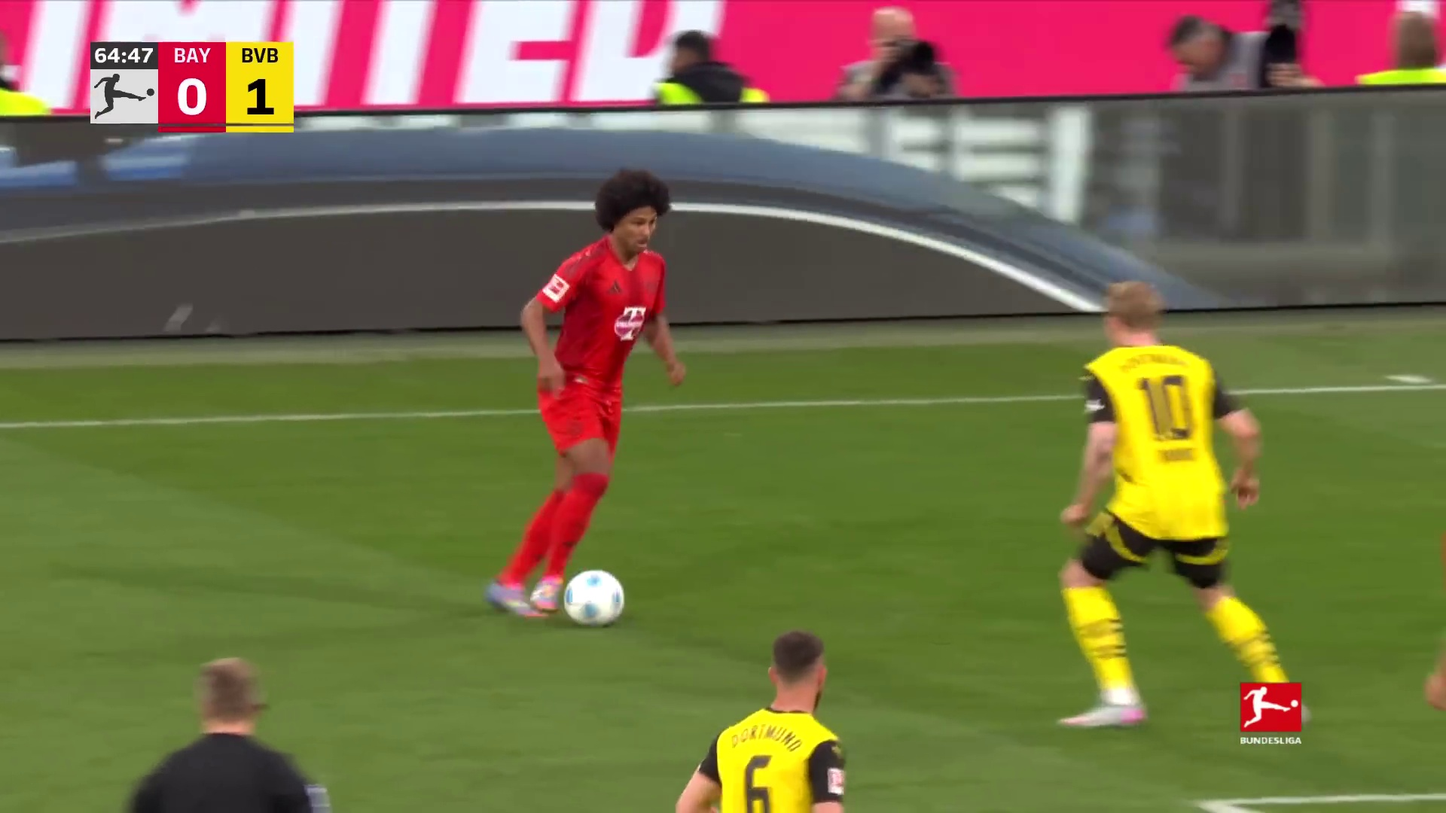ball: (562, 569, 628, 629)
player: (1053, 279, 1314, 734), (482, 163, 688, 614), (673, 628, 852, 813)
referee: (116, 651, 336, 813)
